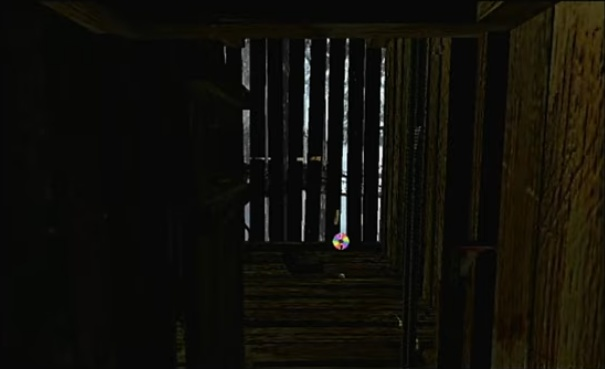Waiting: (329, 228, 353, 251)
